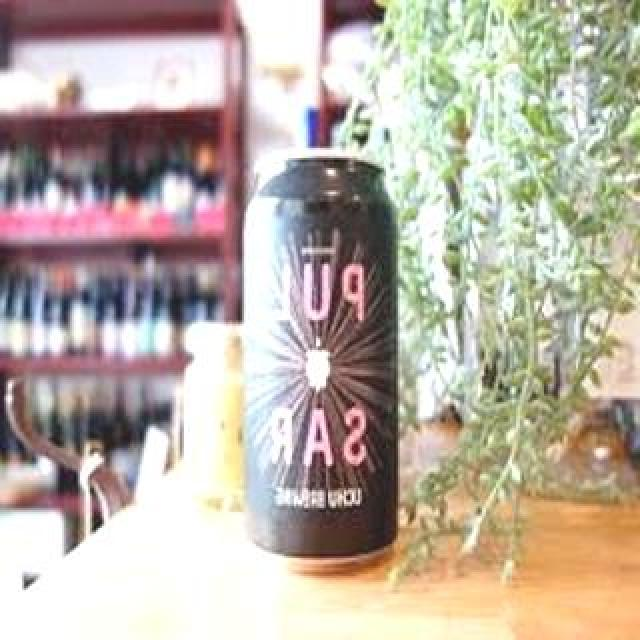Can: (230, 141, 396, 585)
